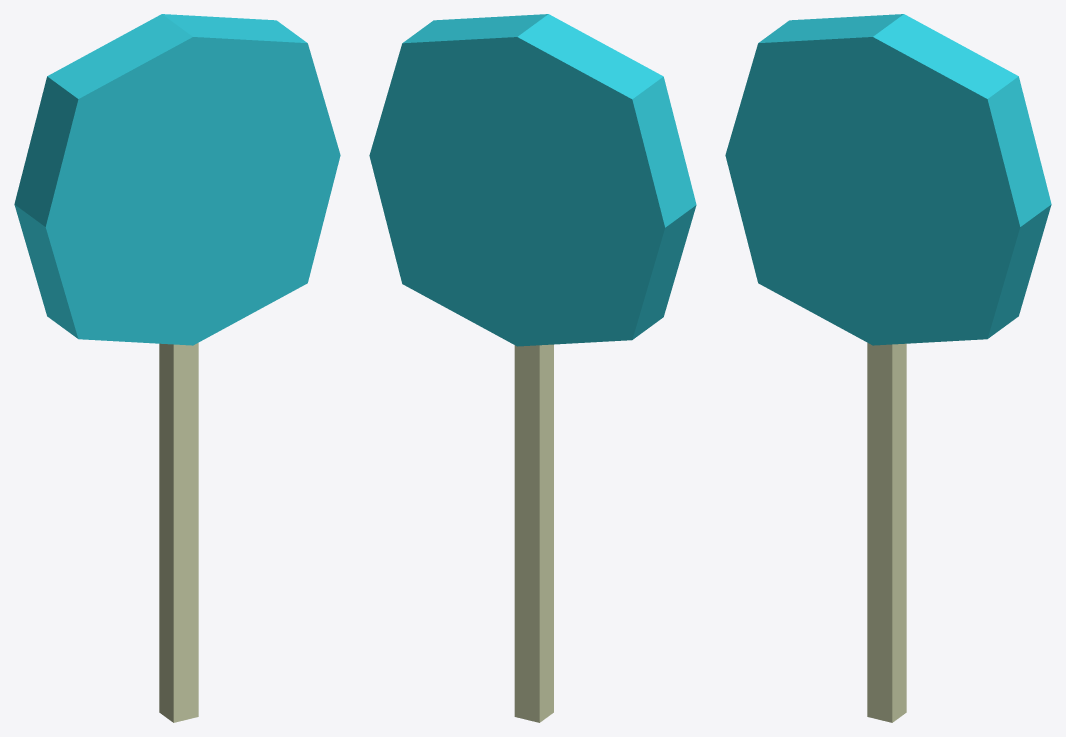
The model's file is lolipop_round.fbx.
3 views of the same model, side by side, from view 1: azimuth 30°, elevation 25°; view 2: azimuth 150°, elevation 25°; view 3: azimuth 330°, elevation 25° (orthographic).
Parts seen in each view (by area): view 1: lolipop_round; view 2: lolipop_round; view 3: lolipop_round.
Boxes of the visible parts, bbox=[...] form: lolipop_round: bbox=[14, 14, 340, 722]; lolipop_round: bbox=[369, 14, 696, 722]; lolipop_round: bbox=[725, 14, 1051, 722].
Bounding box in the file's own units: 46.63 × 104 × 8.57.
